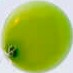Balloon: (2, 2, 72, 73)
